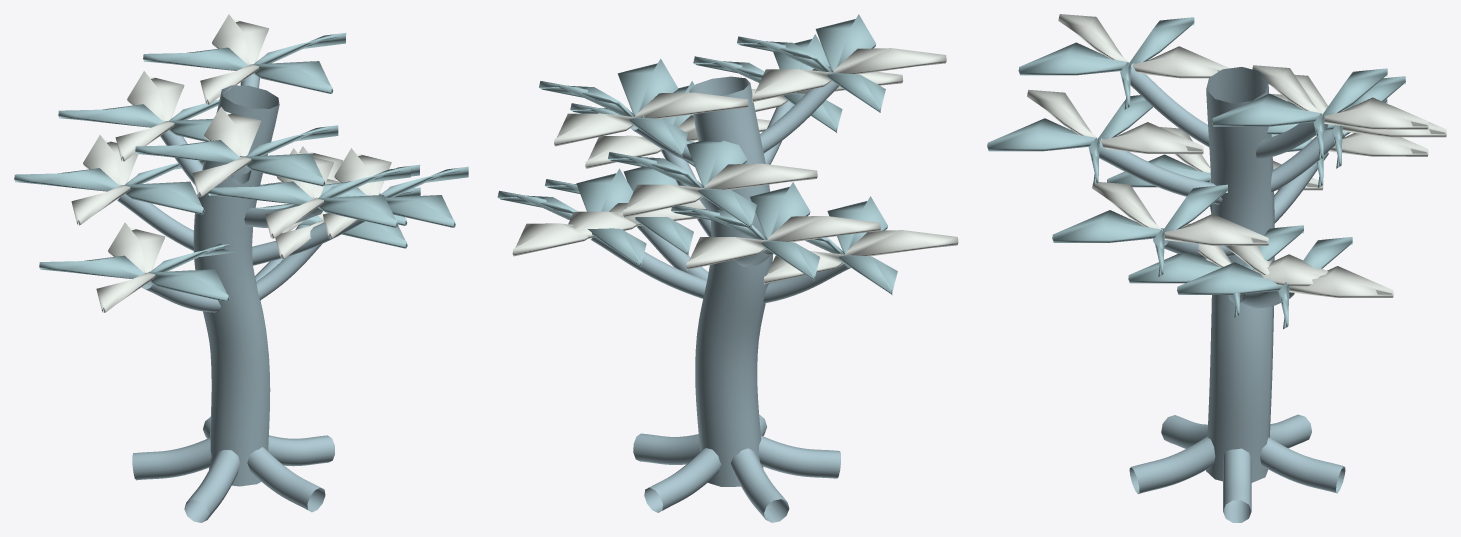
The model's file is bio_canopy_tree_16_near.glb.
The picture shows the model from 3 angles, left to right: view 1: azimuth 30°, elevation 25°; view 2: azimuth 150°, elevation 25°; view 3: azimuth 270°, elevation 25°; orthographic projection. The views are drawn at different scales.
Parts seen in each view (by area): view 1: Buttressed trunk, Broad canopy leaf.035, Broad canopy leaf.015, Broad canopy leaf.010, Broad canopy leaf.020, Broad canopy leaf.005, Broad canopy leaf.021, Broad canopy leaf.036, Broad canopy leaf.025, Broad canopy leaf.030, Broad canopy leaf.031, Broad canopy leaf.016 (+5 smaller); view 2: Buttressed trunk, Broad canopy leaf.035, Broad canopy leaf.015, Broad canopy leaf.005, Broad canopy leaf.030, Broad canopy leaf.016, Broad canopy leaf.031, Broad canopy leaf.036, Broad canopy leaf.006, Broad canopy leaf.040, Broad canopy leaf.021, Broad canopy leaf.020 (+7 smaller); view 3: Buttressed trunk, Broad canopy leaf.035, Broad canopy leaf.015, Broad canopy leaf.025, Broad canopy leaf.010, Broad canopy leaf.026, Broad canopy leaf.011, Broad canopy leaf.016, Broad canopy leaf.040, Broad canopy leaf.036, Broad canopy leaf, Broad canopy leaf.041 (+6 smaller).
Part boxes in pixels (box(x1,y1,x2,y2)): Buttressed trunk: box(117, 74, 364, 522); Broad canopy leaf.035: box(135, 125, 338, 186); Broad canopy leaf.015: box(143, 33, 346, 93); Broad canopy leaf.010: box(208, 166, 410, 227); Broad canopy leaf.020: box(39, 243, 235, 302); Broad canopy leaf.005: box(14, 160, 204, 214); Broad canopy leaf.021: box(96, 222, 165, 312); Broad canopy leaf.036: box(192, 107, 261, 197); Broad canopy leaf.025: box(321, 166, 468, 227); Broad canopy leaf.030: box(58, 99, 219, 141); Broad canopy leaf.031: box(115, 71, 184, 161); Broad canopy leaf.016: box(200, 14, 268, 104); Buttressed trunk: box(590, 71, 850, 522); Broad canopy leaf.035: box(737, 14, 885, 112); Broad canopy leaf.015: box(539, 58, 687, 157); Broad canopy leaf.005: box(671, 182, 819, 281); Broad canopy leaf.030: box(608, 140, 756, 228); Broad canopy leaf.016: box(554, 92, 748, 146); Broad canopy leaf.031: box(623, 163, 817, 217); Broad canopy leaf.036: box(752, 48, 946, 101); Broad canopy leaf.006: box(686, 216, 880, 269); Broad canopy leaf.040: box(497, 168, 646, 267); Broad canopy leaf.021: box(763, 230, 958, 284); Broad canopy leaf.020: box(805, 196, 897, 294); Buttressed trunk: box(1099, 63, 1345, 522); Broad canopy leaf.035: box(1018, 17, 1194, 109); Broad canopy leaf.015: box(1212, 68, 1387, 160); Broad canopy leaf.025: box(1052, 184, 1227, 276); Broad canopy leaf.010: box(987, 95, 1152, 185); Broad canopy leaf.026: box(1092, 182, 1268, 245); Broad canopy leaf.011: box(1027, 89, 1203, 154); Broad canopy leaf.016: box(1252, 65, 1428, 129); Broad canopy leaf.040: box(1177, 237, 1352, 329); Broad canopy leaf.036: box(1058, 14, 1229, 78); Broad canopy leaf: box(1128, 225, 1303, 317); Broad canopy leaf.041: box(1224, 245, 1393, 297).
Bounding box in the file's own units: 3.06 × 2.99 × 3.05.
